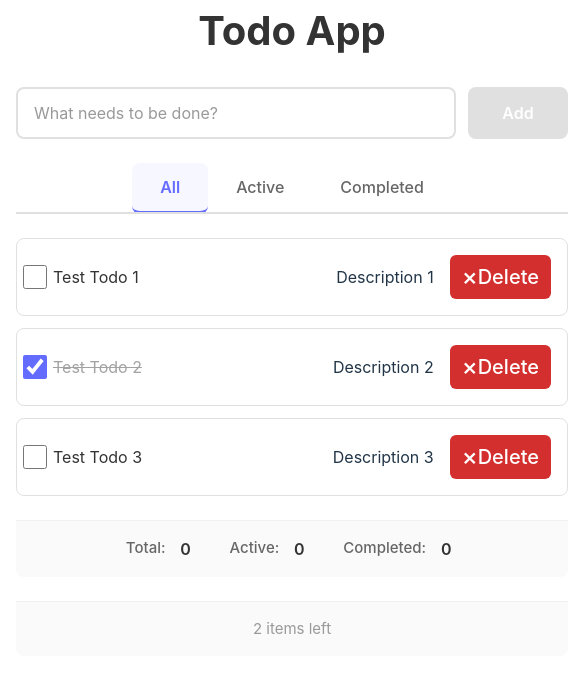
Test: App Component › Item Counter › updates count when todos change
This screenshot has width=585, height=673.
Check: the text "2 items left" is shown, box x1=16 y1=601 x2=568 y2=656
Click the checkbox named "Mark \"Test Todo 1\" as complete" at (35, 277), box x1=23 y1=265 x2=47 y2=289
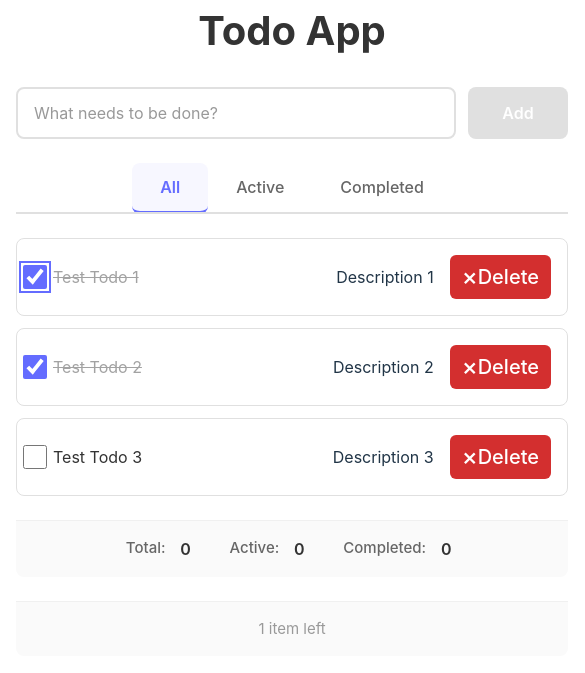
Check: the text "1 item left" is shown, box x1=16 y1=601 x2=568 y2=656
